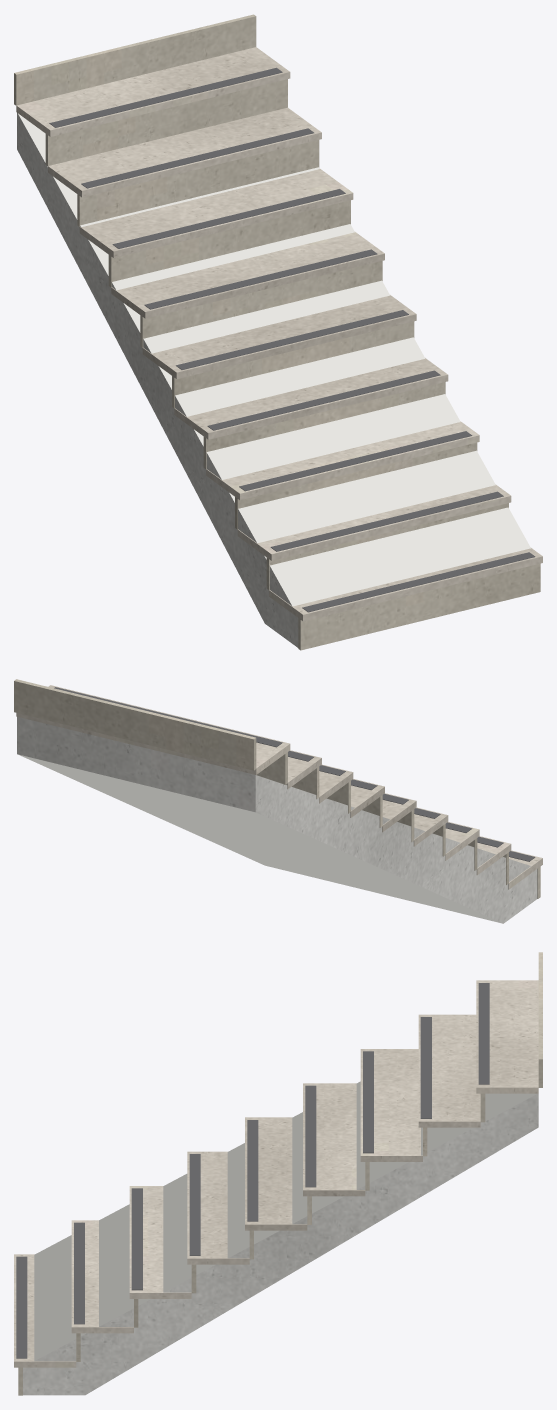
The model's file is flight.glb.
3 renders of one model, top to bottom at view 1: azimuth 30°, elevation 25°; view 2: azimuth 150°, elevation 25°; view 3: azimuth 270°, elevation 25°, orthographic. The views are drawn at different scales.
Visible parts, largest first — view 1: flight_terrazzo, flight_plaster, flight_precast, flight_dark; view 2: flight_plaster, flight_precast, flight_terrazzo, flight_dark; view 3: flight_plaster, flight_terrazzo, flight_dark, flight_precast.
Boxes of the visible parts, x1,y1,x2,y2 form: flight_terrazzo: (16, 47, 542, 621); flight_plaster: (17, 113, 530, 647); flight_precast: (14, 14, 540, 650); flight_dark: (49, 67, 535, 612); flight_plaster: (17, 717, 537, 923); flight_precast: (14, 679, 540, 898); flight_terrazzo: (16, 685, 542, 889); flight_dark: (54, 687, 535, 861); flight_plaster: (23, 1081, 538, 1395); flight_terrazzo: (14, 980, 538, 1367); flight_dark: (16, 983, 489, 1358); flight_precast: (18, 952, 542, 1395).
Bounding box in the file's own units: 1.14 × 1.67 × 2.38.
4 materials, 3 textured.
